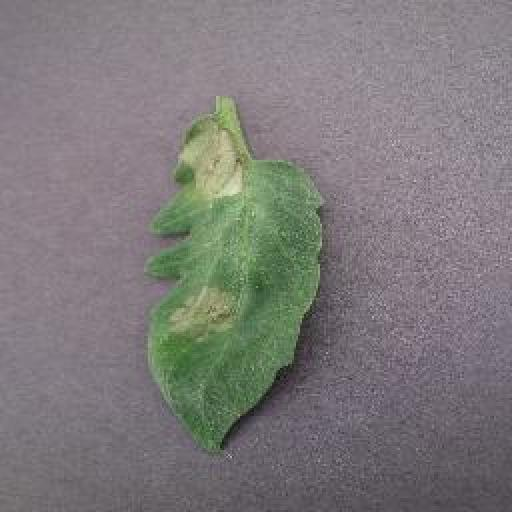Late Blight: (147, 111, 325, 456)
